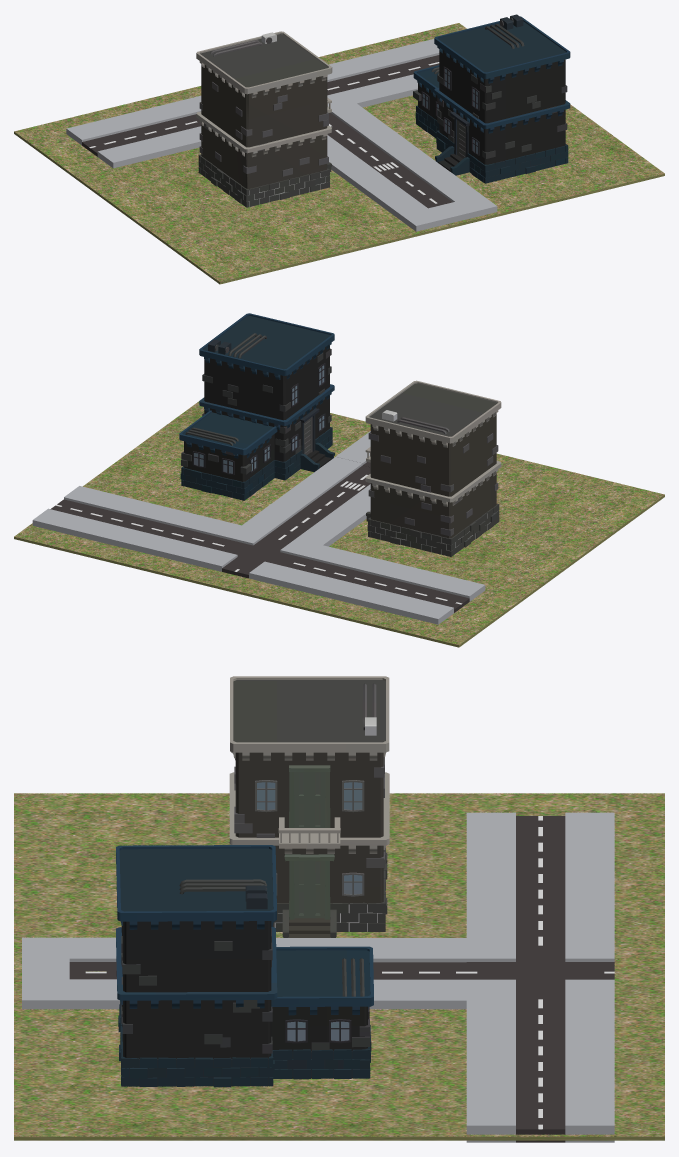
The model's file is livello1_urban_scene.glb.
3 views of the same model, one above another, from view 1: azimuth 30°, elevation 25°; view 2: azimuth 150°, elevation 25°; view 3: azimuth 270°, elevation 25° (orthographic). The views are drawn at different scales.
Visible parts, largest first — view 1: Object_3, Object_55, Object_54, Object_41, Object_34, Object_32, Object_31, Object_33, Object_13, Object_10, Object_29, Object_6 (+3 smaller); view 2: Object_3, Object_55, Object_54, Object_34, Object_29, Object_31, Object_30, Object_33, Object_37, Object_12, Object_32, Object_13 (+6 smaller); view 3: Object_3, Object_55, Object_54, Object_30, Object_31, Object_34, Object_29, Object_41, Object_33, Object_12, Object_37, Object_7 (+5 smaller).
Boxes of the visible parts, <box> form: Object_3: <box>14,23,664,284</box>; Object_55: <box>413,14,570,183</box>; Object_54: <box>196,31,332,207</box>; Object_41: <box>369,172,497,231</box>; Object_34: <box>66,109,194,168</box>; Object_32: <box>328,138,449,196</box>; Object_31: <box>327,49,417,107</box>; Object_33: <box>327,103,403,155</box>; Object_13: <box>82,122,176,156</box>; Object_10: <box>352,146,422,186</box>; Object_29: <box>148,95,201,148</box>; Object_6: <box>327,63,416,92</box>; Object_3: <box>14,401,664,647</box>; Object_55: <box>179,313,334,500</box>; Object_54: <box>365,380,501,556</box>; Object_34: <box>357,565,485,624</box>; Object_29: <box>276,545,403,604</box>; Object_31: <box>113,505,241,565</box>; Object_30: <box>32,486,159,545</box>; Object_33: <box>242,491,369,546</box>; Object_37: <box>195,525,322,584</box>; Object_12: <box>213,534,306,578</box>; Object_32: <box>289,457,370,512</box>; Object_13: <box>375,578,469,612</box>; Object_3: <box>14,793,664,1140</box>; Object_55: <box>116,845,373,1087</box>; Object_54: <box>229,676,389,937</box>; Object_30: <box>466,1063,614,1142</box>; Object_31: <box>466,1000,614,1063</box>; Object_34: <box>466,812,614,875</box>; Object_29: <box>466,875,614,937</box>; Object_41: <box>22,937,119,1009</box>; Object_33: <box>318,938,466,1009</box>; Object_12: <box>466,941,614,1003</box>; Object_37: <box>466,938,614,1000</box>; Object_7: <box>516,1066,565,1142</box>.
Size of the model in its own units: 76.24 by 21.29 by 61.09.
Materials: 28 (3 with a texture image).
